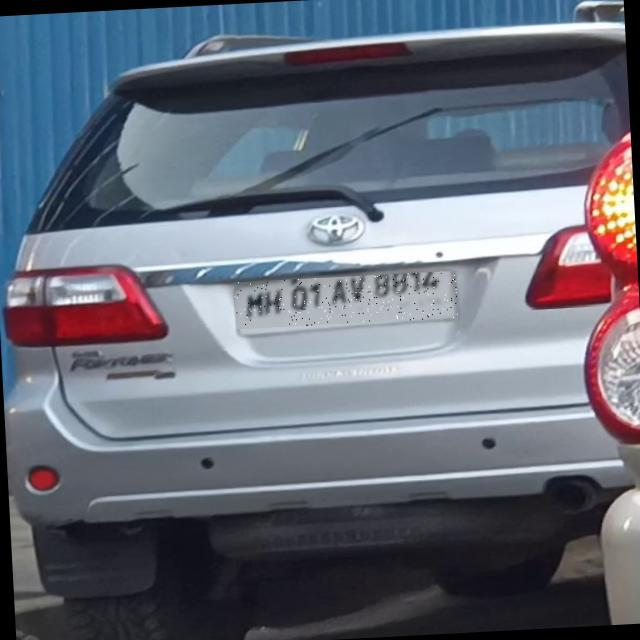Plate: (235, 272, 459, 331)
